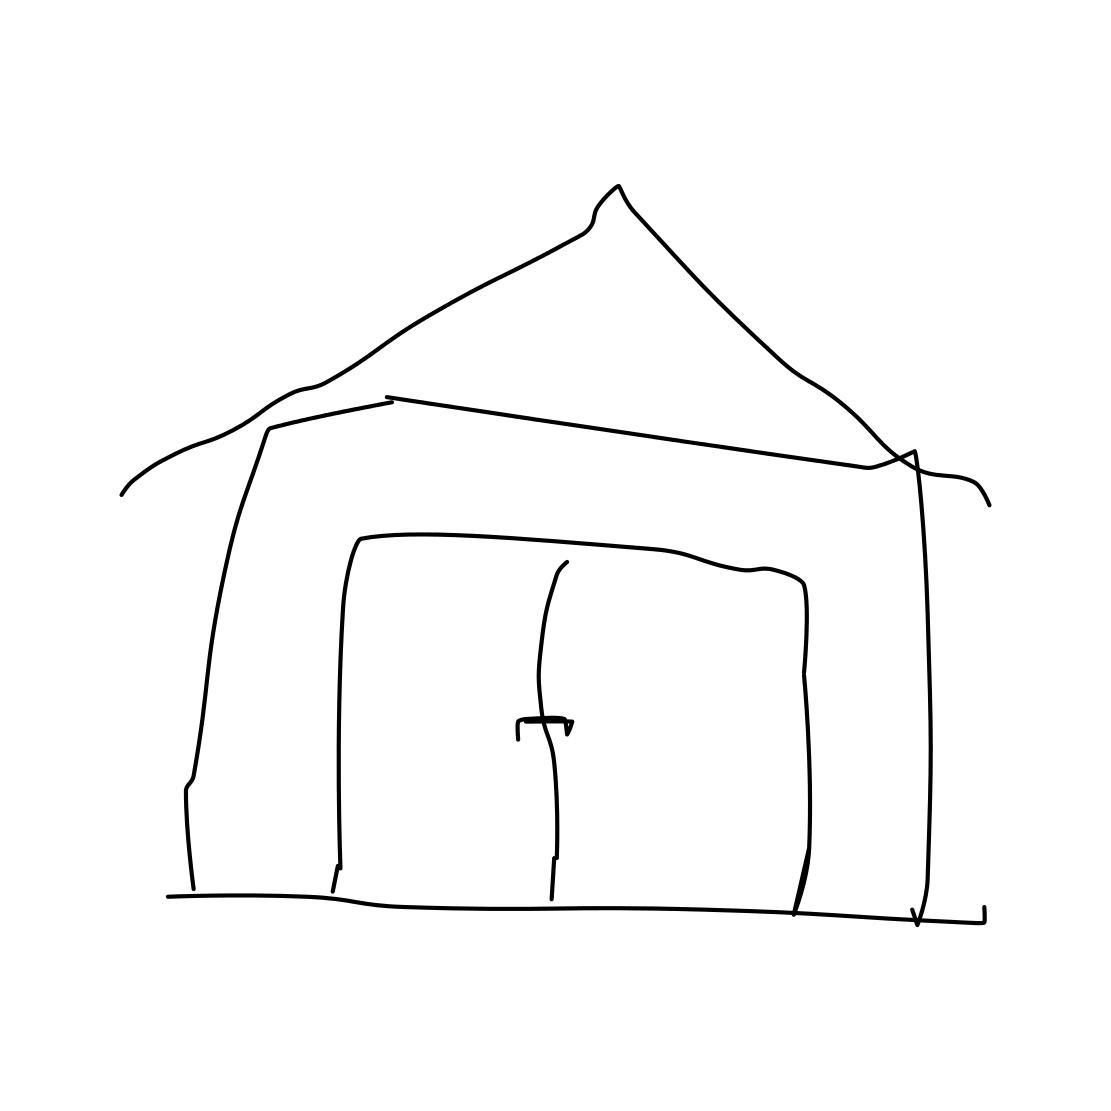House: (68, 160, 1025, 950)
